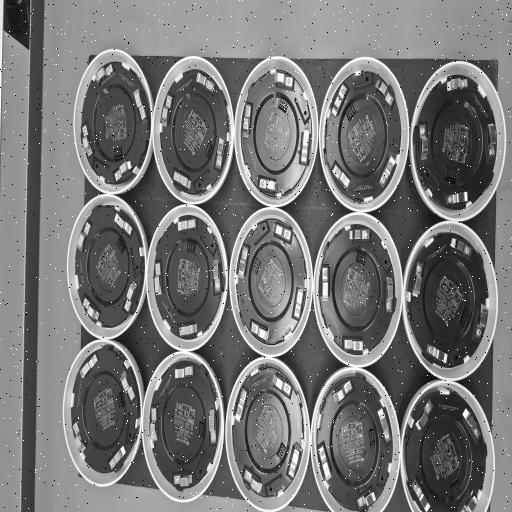konnektor: (459, 307, 472, 329), (114, 387, 125, 412), (446, 166, 459, 185), (448, 476, 461, 495), (346, 102, 358, 122), (252, 254, 262, 278), (114, 235, 126, 255), (276, 441, 286, 464), (354, 250, 368, 266), (278, 96, 289, 115), (184, 238, 196, 255), (112, 142, 123, 159), (369, 426, 376, 450), (204, 141, 213, 158), (198, 419, 204, 442)
yayli: (330, 80, 351, 121), (374, 76, 396, 112), (461, 405, 480, 445), (378, 152, 398, 190), (413, 398, 434, 434), (423, 339, 450, 367), (118, 364, 138, 401), (411, 475, 431, 512), (78, 348, 99, 383), (240, 465, 264, 495), (318, 438, 333, 486), (473, 297, 489, 341), (447, 236, 473, 261), (444, 74, 472, 97), (159, 93, 175, 133), (410, 259, 425, 301), (236, 240, 251, 282), (269, 372, 293, 398), (378, 403, 392, 447), (267, 222, 295, 244), (122, 278, 139, 314), (172, 164, 193, 193), (76, 217, 92, 255), (83, 294, 102, 326), (71, 417, 86, 457), (170, 466, 194, 491), (332, 160, 352, 190), (331, 380, 354, 406), (342, 334, 368, 357), (320, 260, 332, 309), (443, 187, 472, 207), (114, 210, 134, 239), (93, 61, 115, 87), (356, 485, 378, 511), (417, 119, 430, 163), (248, 318, 270, 344), (214, 130, 226, 177), (235, 386, 249, 426), (293, 283, 306, 324), (210, 257, 224, 295), (242, 99, 254, 143), (113, 160, 135, 184), (348, 225, 373, 246), (170, 362, 196, 382), (152, 259, 165, 298), (194, 71, 216, 94), (109, 446, 127, 474), (255, 175, 279, 196), (133, 87, 147, 123), (81, 121, 94, 159), (288, 440, 300, 480), (301, 124, 312, 167), (149, 406, 160, 448), (487, 118, 498, 160), (384, 272, 394, 318), (173, 217, 201, 233), (274, 70, 295, 91), (462, 489, 480, 512), (208, 400, 217, 445), (180, 319, 200, 338)
